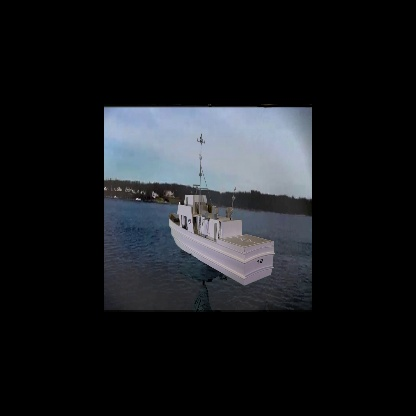YP689: (168, 135, 275, 287)
